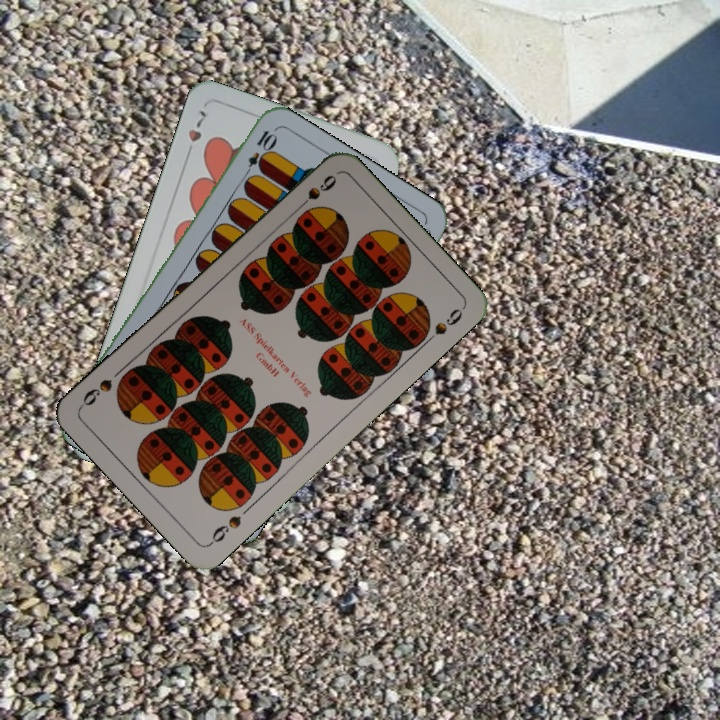E10: (239, 126, 278, 182)
H7: (181, 106, 209, 161)
S9: (291, 170, 340, 215), (205, 511, 244, 548)
